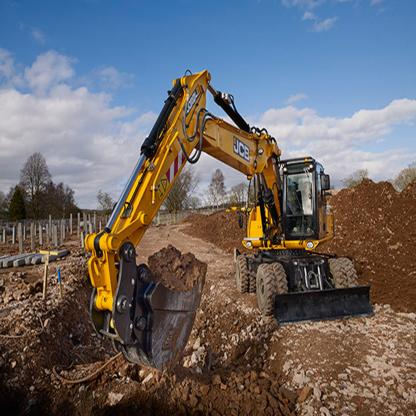excavator: (65, 60, 370, 370)
